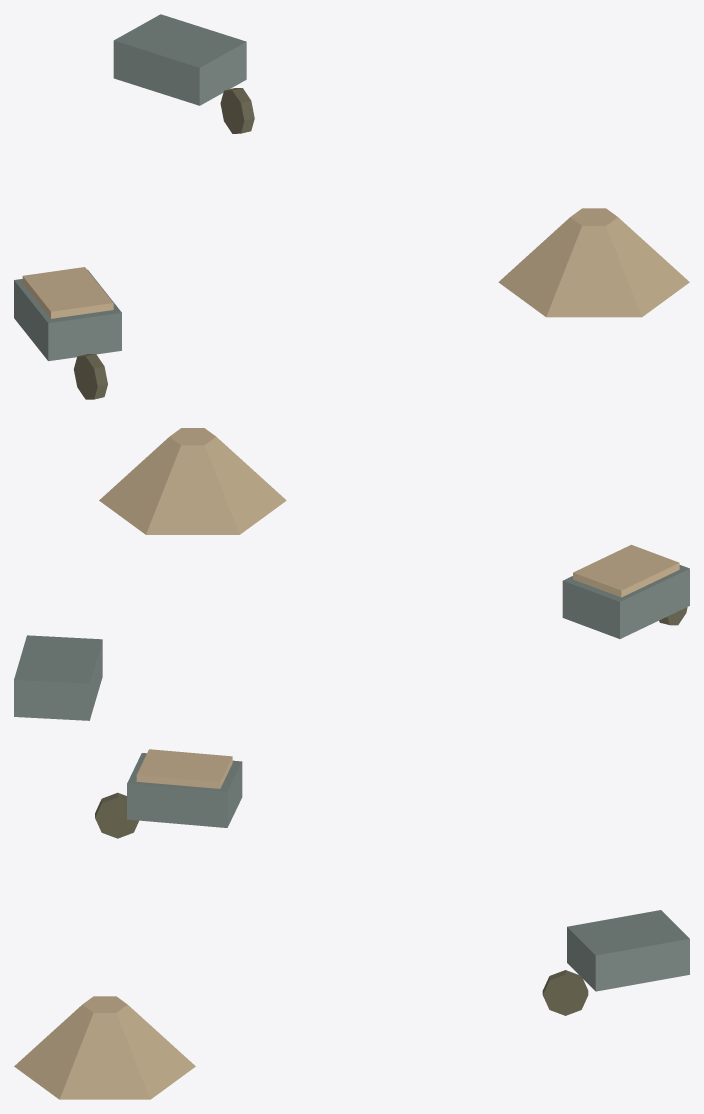
Rendered from SM_ObraHerramientas_v2_8m_LOD1.fbx.
The picture shows the model from 3 angles, top to bottom: view 1: azimuth 30°, elevation 25°; view 2: azimuth 150°, elevation 25°; view 3: azimuth 270°, elevation 25°; orthographic projection. The views are drawn at different scales.
Visible parts, largest first — view 1: SM_obra_curso_v14_LOD1; view 2: SM_obra_curso_v14_LOD1; view 3: SM_obra_curso_v14_LOD1.
Boxes of the visible parts, left/top/right/bottom form: SM_obra_curso_v14_LOD1: left=14, top=14, right=689, bottom=399; SM_obra_curso_v14_LOD1: left=14, top=428, right=689, bottom=720; SM_obra_curso_v14_LOD1: left=14, top=749, right=689, bottom=1099.
Size of the model in its own units: 5.77 by 0.74 by 5.94.
